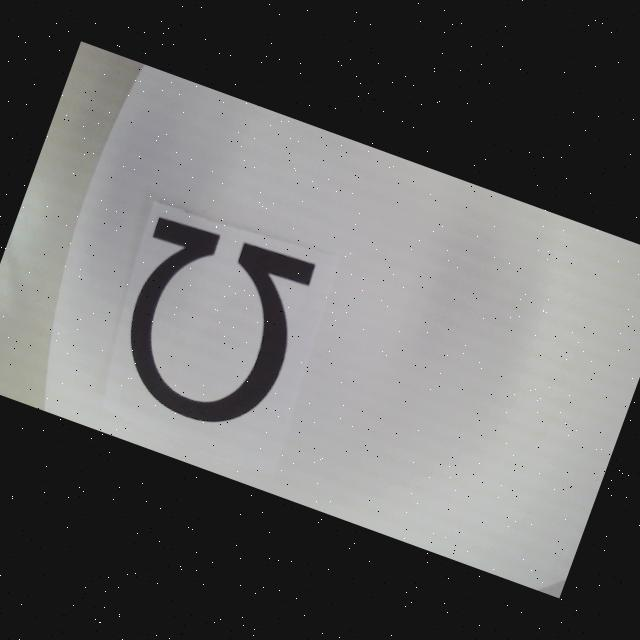OMEGA: (98, 207, 322, 443)
